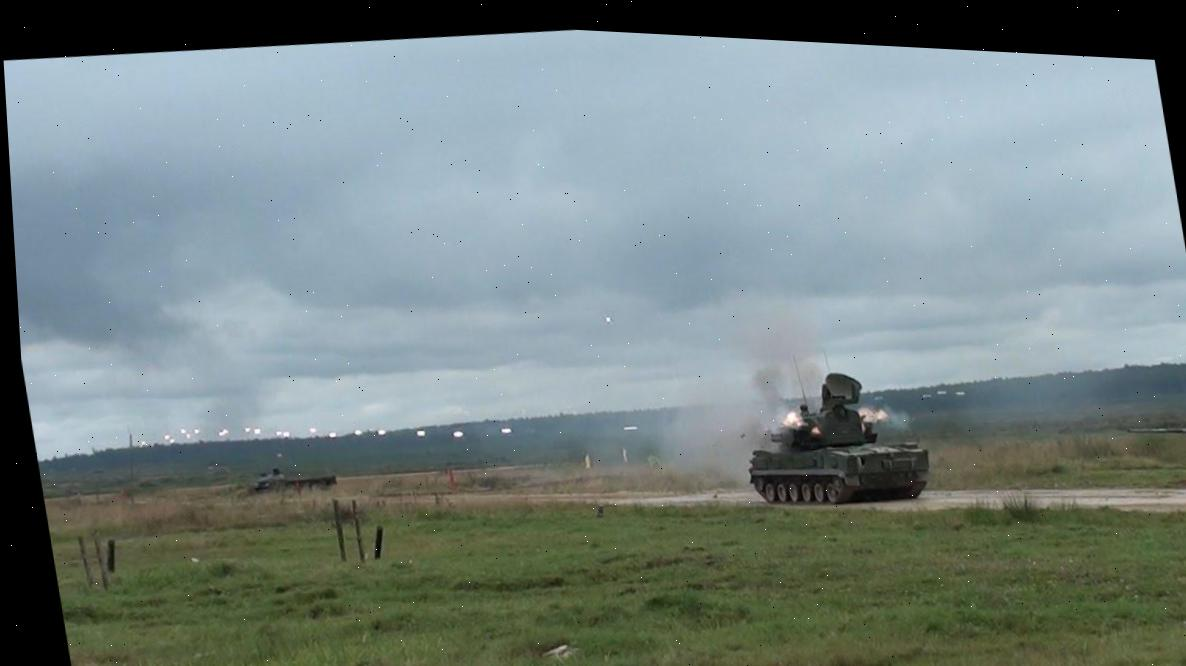tank: (730, 356, 941, 523), (245, 458, 341, 507), (1121, 409, 1186, 449)
